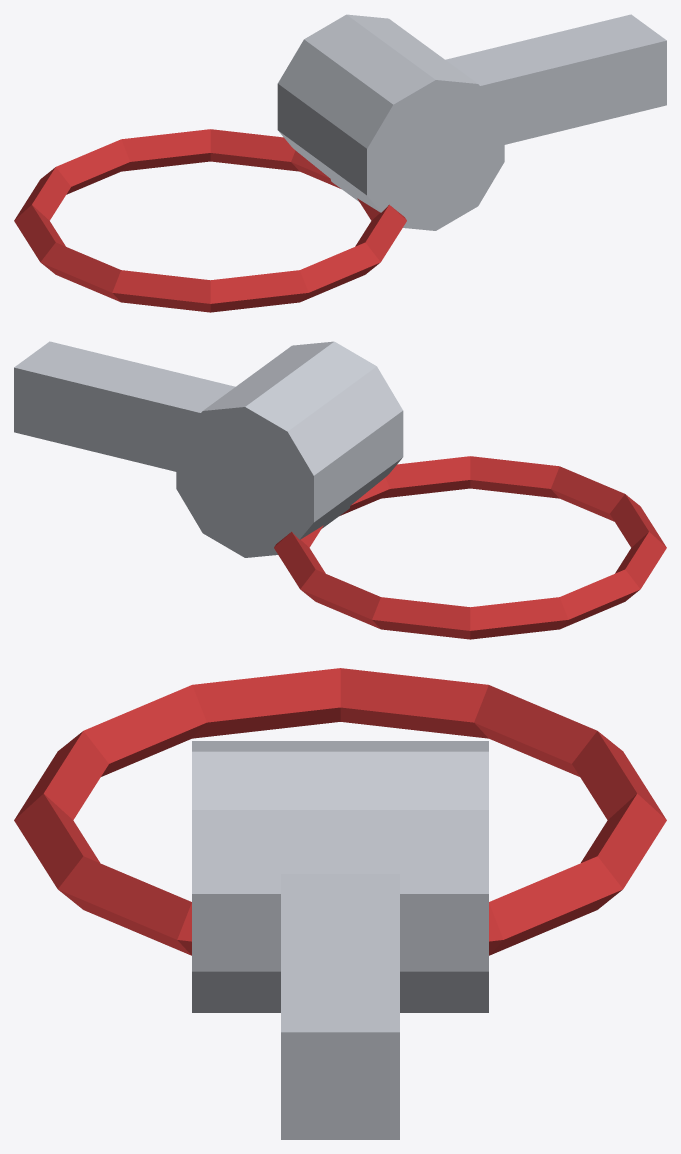
File: trainer_whistle.glb
3 views of the same model, one above another, from view 1: azimuth 30°, elevation 25°; view 2: azimuth 150°, elevation 25°; view 3: azimuth 270°, elevation 25° (orthographic). The views are drawn at different scales.
Parts seen in each view (by area): view 1: body_whistle_silver, cord_whistle_cord, mouth_whistle_silver; view 2: body_whistle_silver, cord_whistle_cord, mouth_whistle_silver; view 3: body_whistle_silver, cord_whistle_cord, mouth_whistle_silver.
Part boxes in pixels (x1,y1,x2,y2): body_whistle_silver: [277, 14, 504, 230]; cord_whistle_cord: [14, 129, 406, 312]; mouth_whistle_silver: [445, 14, 666, 144]; body_whistle_silver: [176, 341, 403, 557]; cord_whistle_cord: [274, 456, 666, 639]; mouth_whistle_silver: [14, 341, 235, 471]; body_whistle_silver: [192, 741, 488, 1012]; cord_whistle_cord: [14, 668, 666, 955]; mouth_whistle_silver: [281, 874, 399, 1139].
Size of the model in its own units: 0.118 by 0.028 by 0.066.
